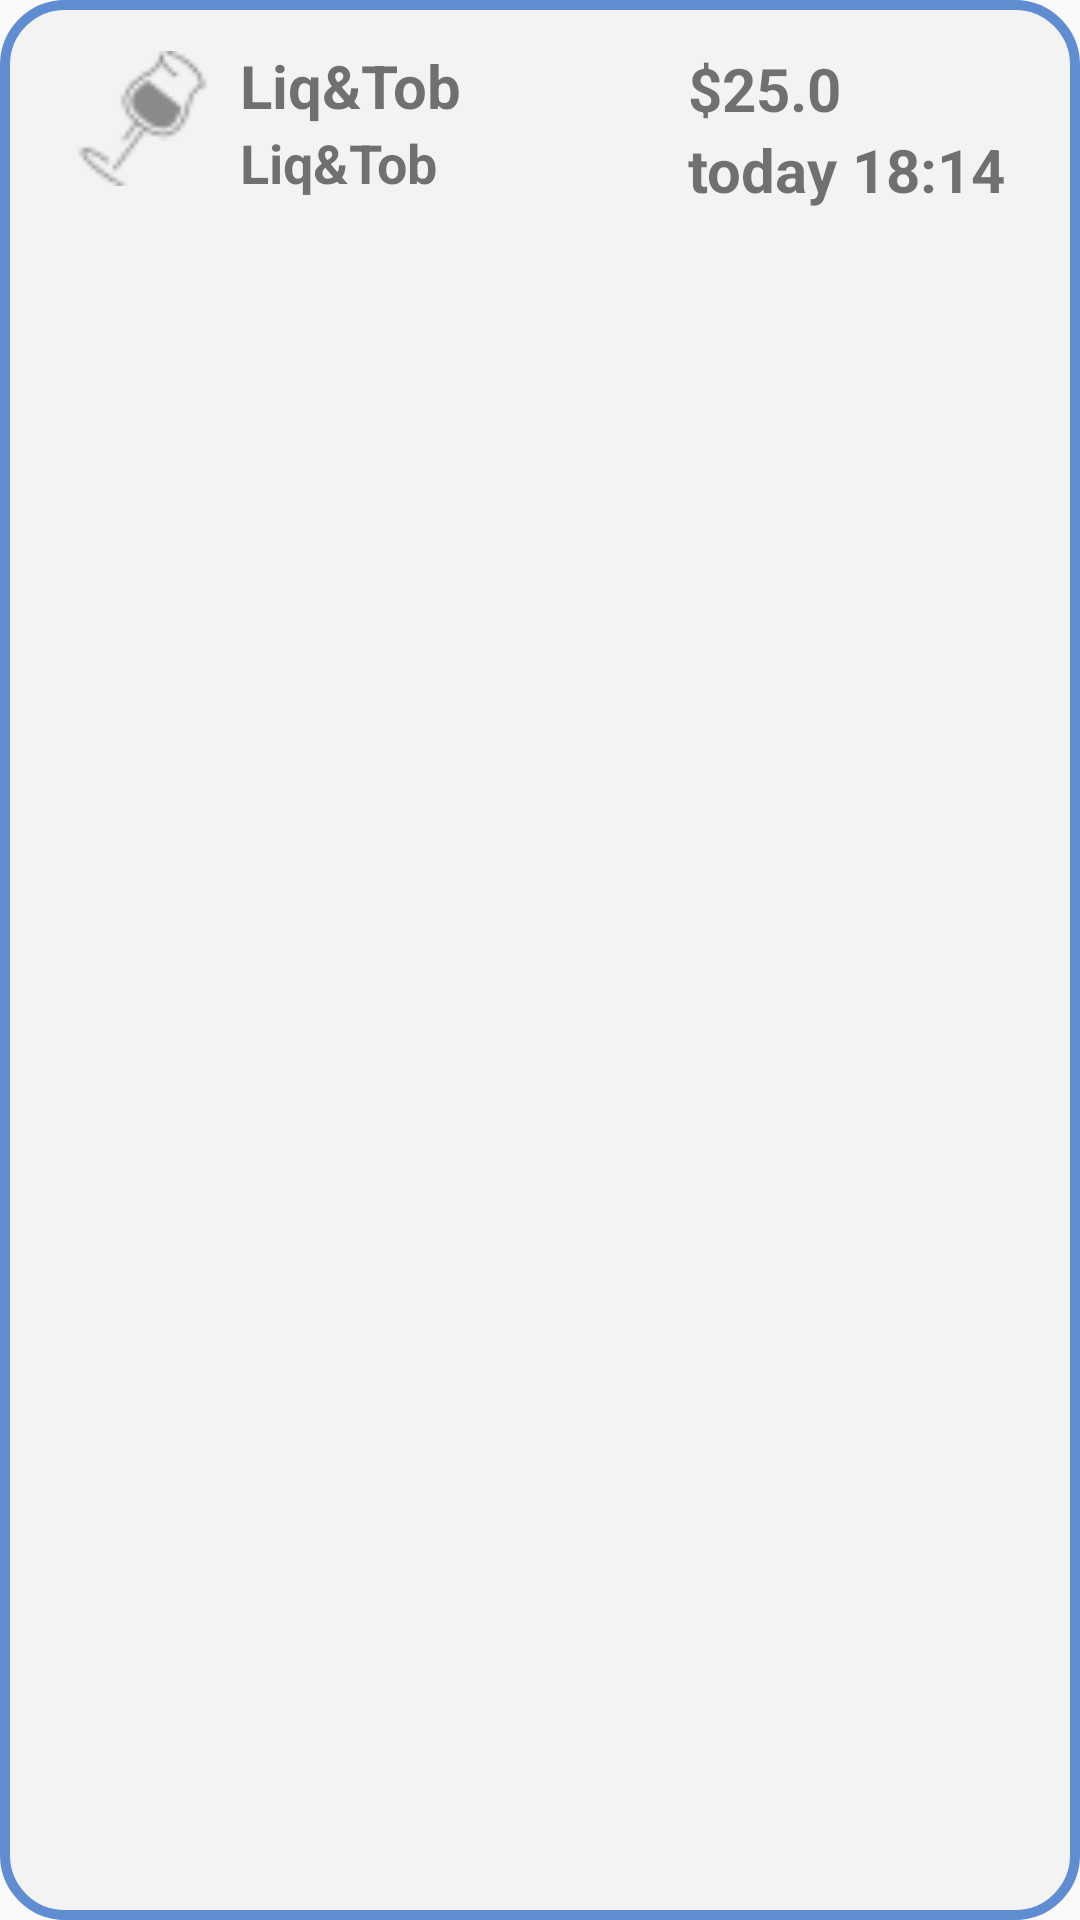

Locate icon controls on the screen. Image size 1080px x 1920px, boxes as {"x1": x1, "y1": y1, "x2": x2, "y2": y2}.
alchol: {"x1": 80, "y1": 51, "x2": 206, "y2": 186}
